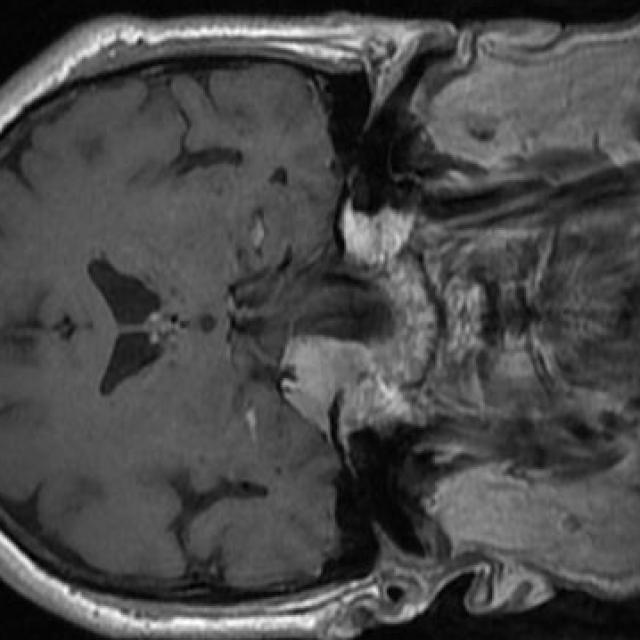meningioma: (282, 339, 387, 435)
